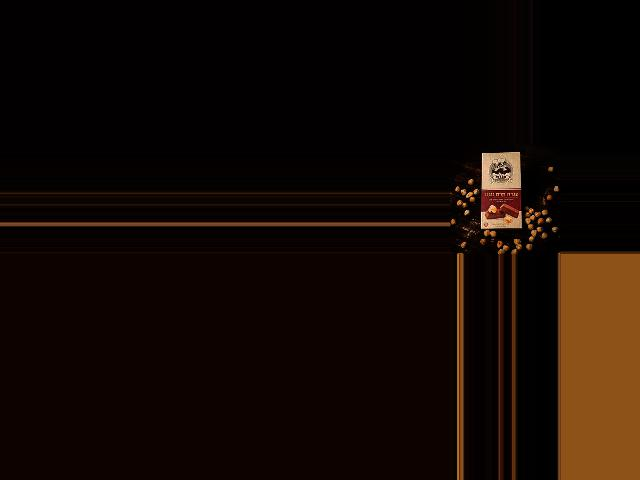chocolate: (478, 150, 525, 231)
